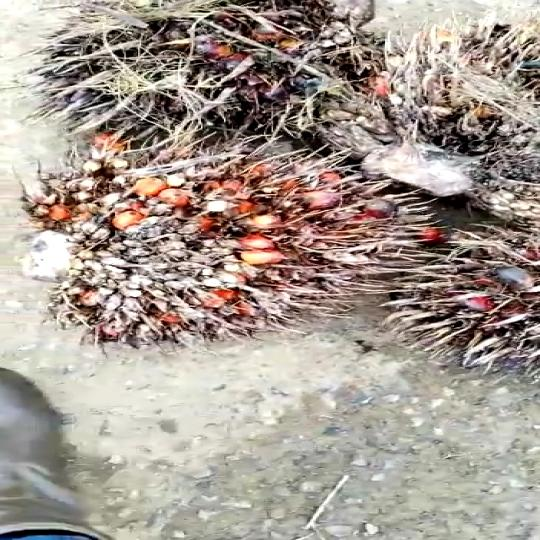terlalu masak: (19, 144, 434, 342), (42, 0, 413, 146)
